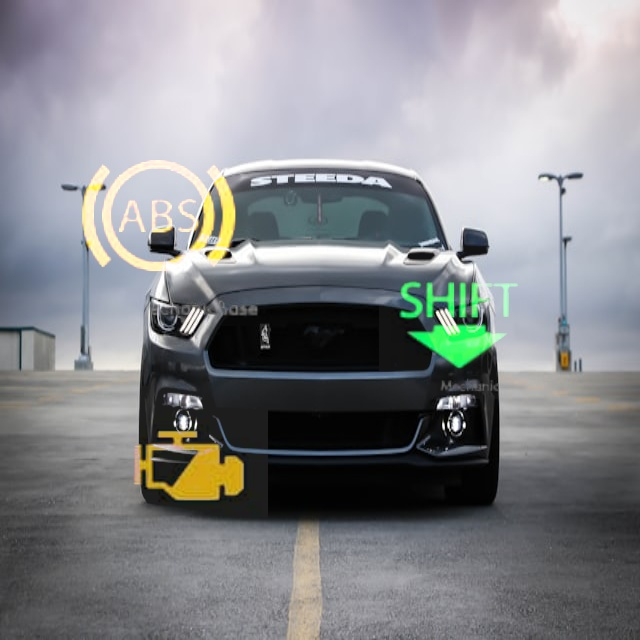symbol: (49, 109, 266, 326), (107, 386, 268, 547), (379, 242, 536, 399)
